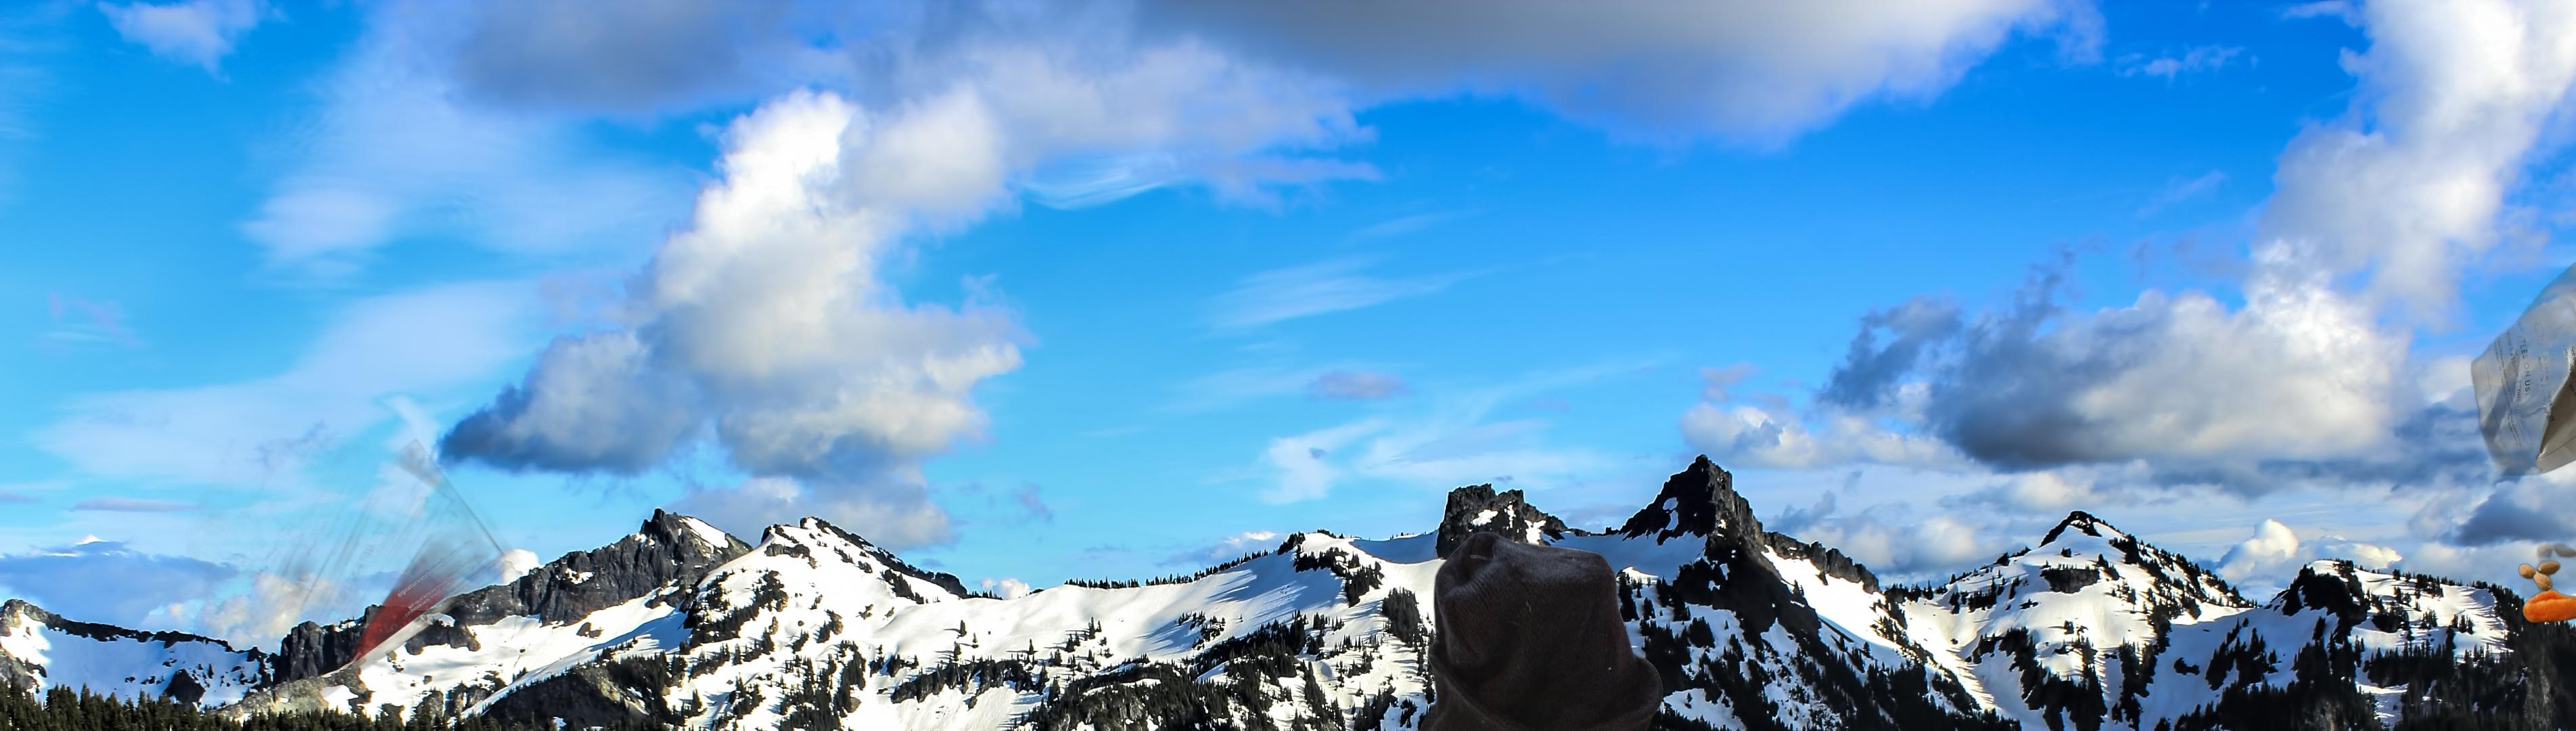biological: (2515, 494, 2576, 624)
clothes: (1418, 529, 1666, 731)
metal-cans: (345, 646, 692, 731)
paper: (186, 439, 532, 698), (2469, 215, 2576, 476)
